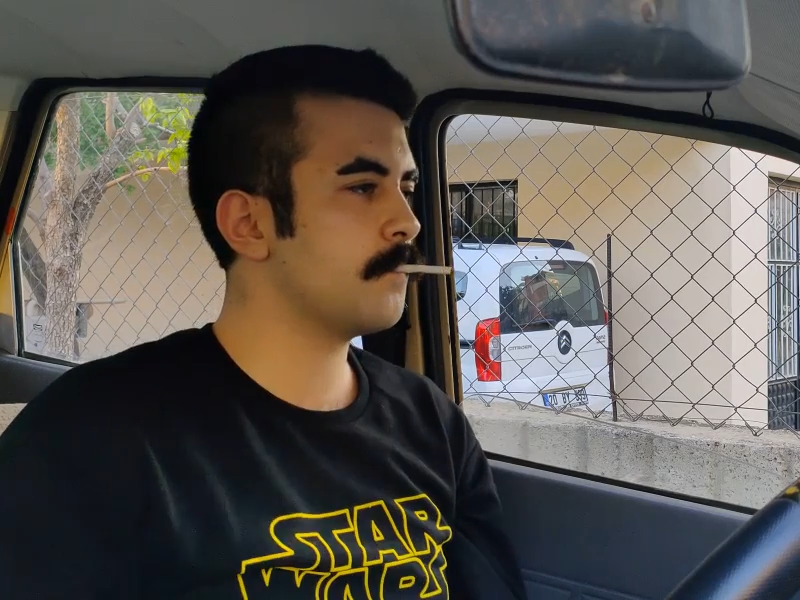sigara: (393, 261, 457, 277)
